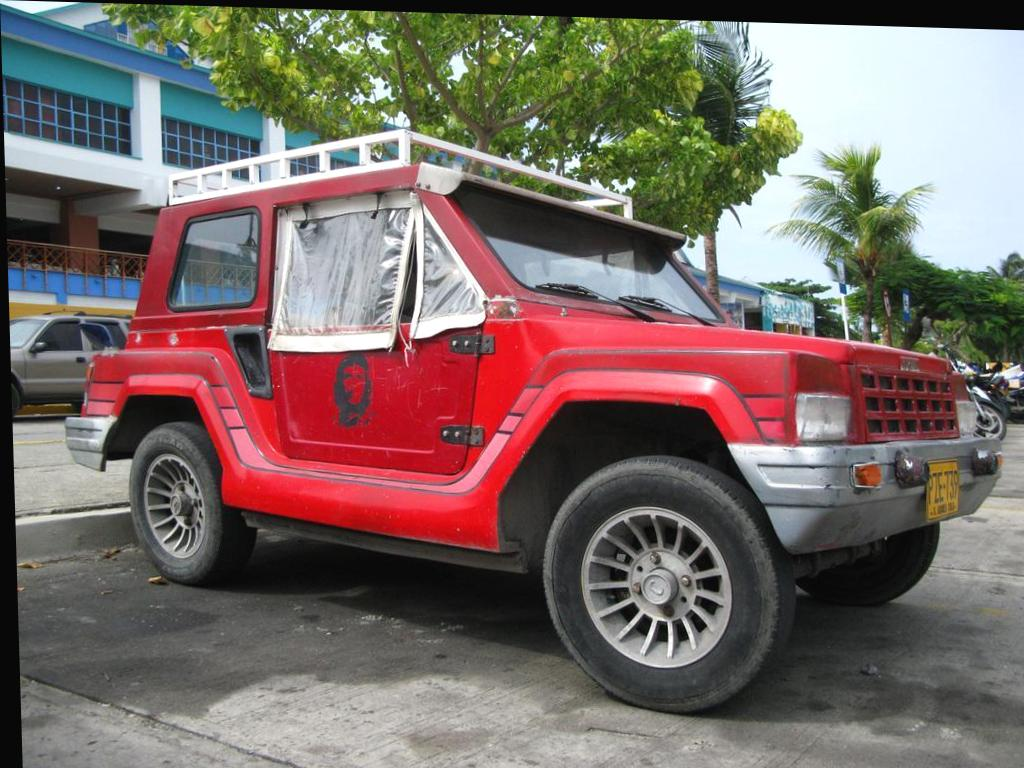License_Plate: (921, 463, 962, 520)
